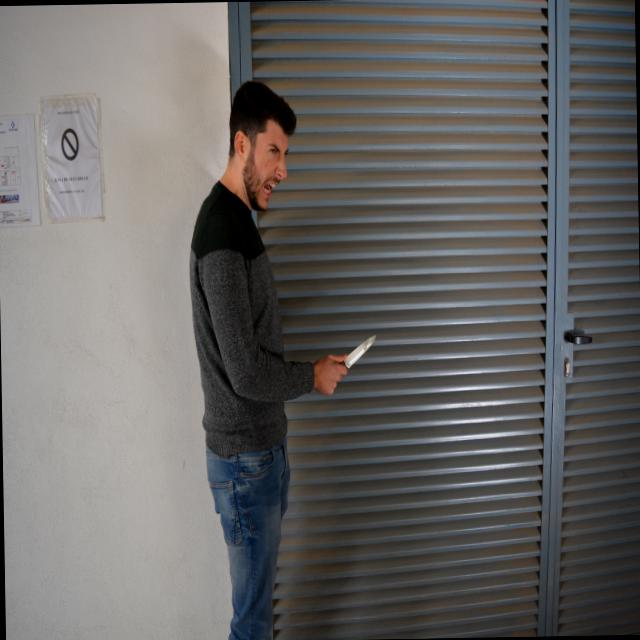knife: (328, 329, 379, 378)
